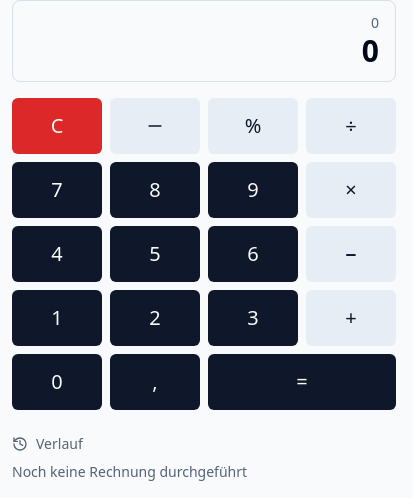
Test: Calculator — Vorzeichenwechsel (±) › negativiert den aktuellen Wert
What coordinates should you click on to do the following:
click the button "7"
I would click on:
 (57, 190)
Its box is [12,162,102,218].
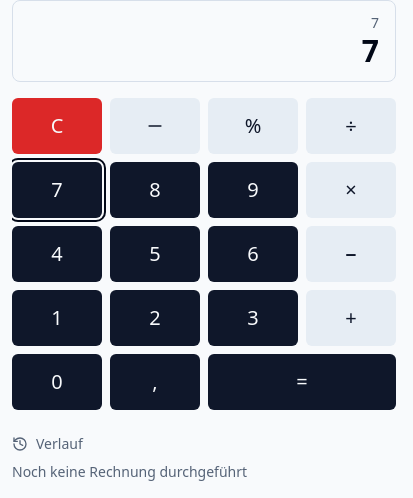
What coordinates should you click on to do the following:
click the button named "Vorzeichenwechsel"
I would click on:
 (155, 126)
Its box is [110,98,200,154].
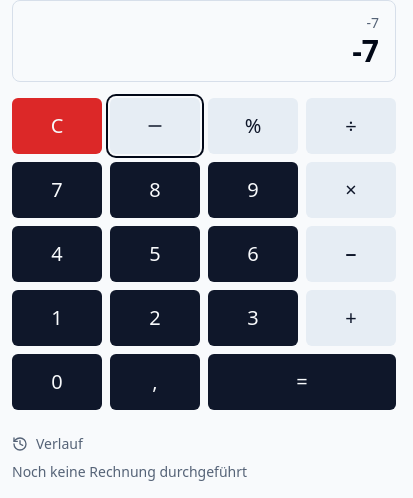
Result: the 2nd text "-7" is shown at [352,30,379,71]
